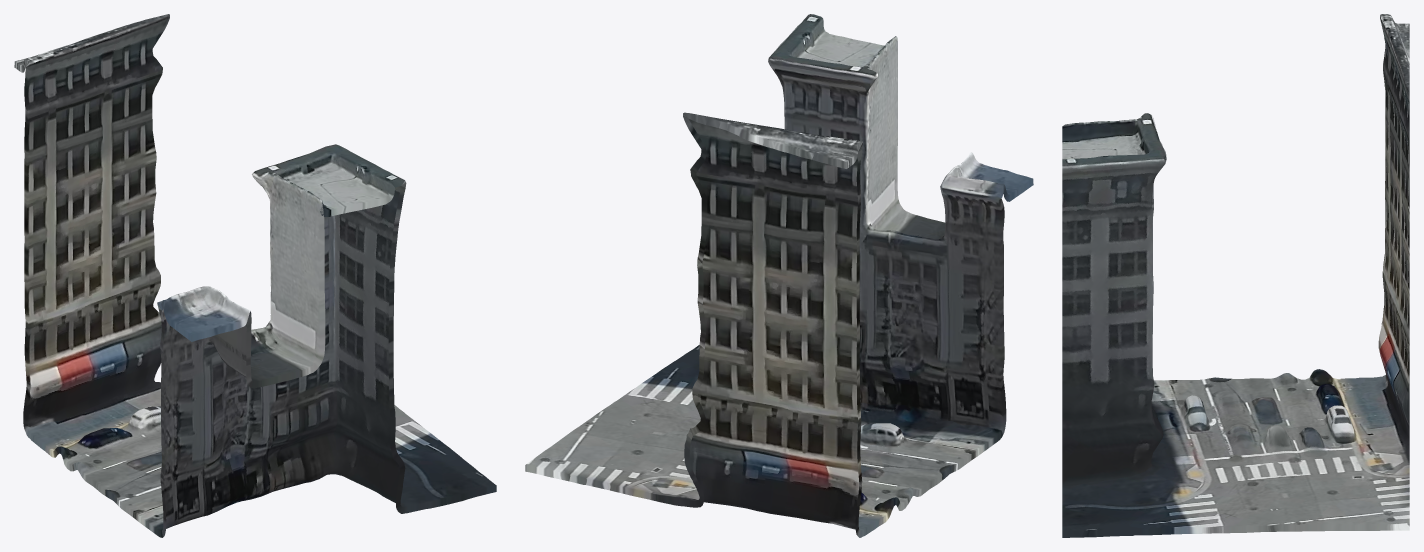
File: z20-167760-405238-h0-yup-uvflip-v3-world.glb
3 renders of one model, left to right at view 1: azimuth 30°, elevation 25°; view 2: azimuth 150°, elevation 25°; view 3: azimuth 270°, elevation 25°, orthographic. The views are drawn at different scales.
Bounding box in the file's own units: 30.2 × 36.48 × 30.32.
Materials: 1 (1 with a texture image).
